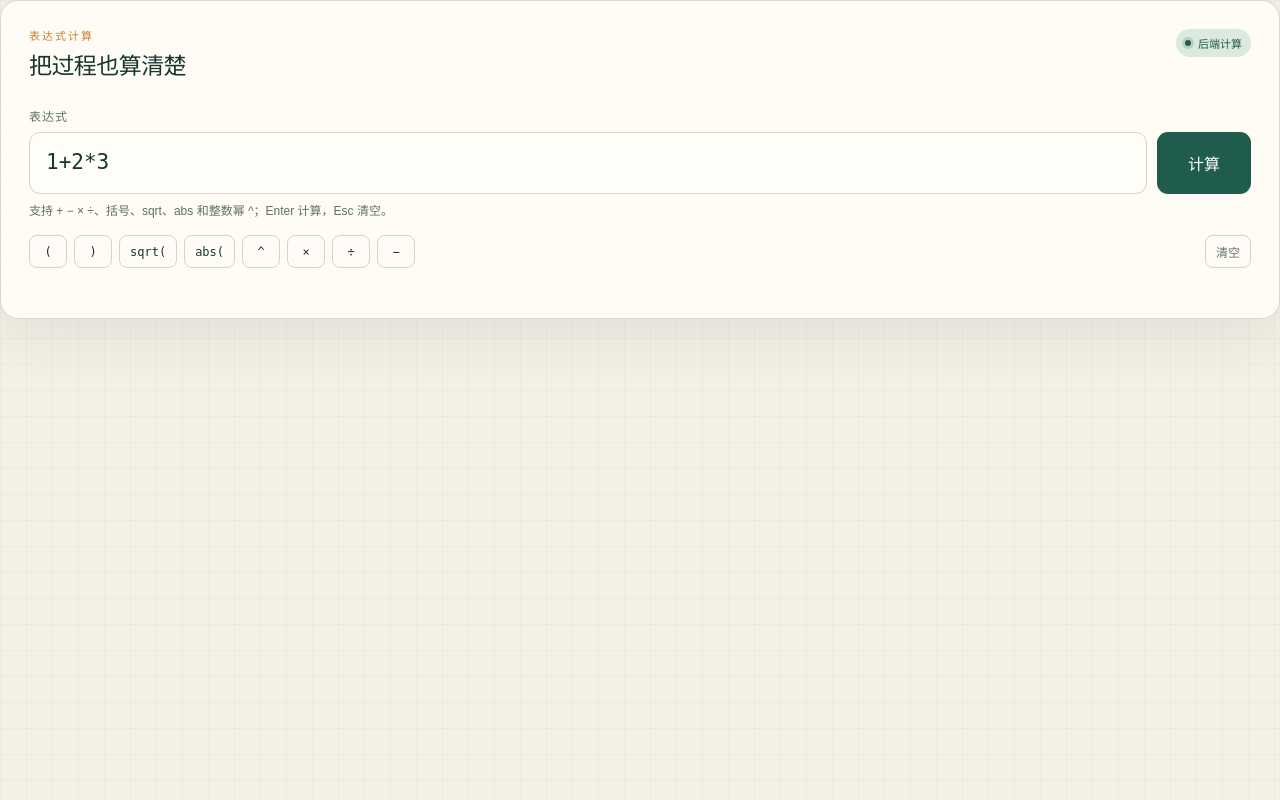
Scenario: CalculatorPanel › uses the API response as the displayed result
The width and height of the screenshot is (1280, 800).
Click the button "计算".
click(1204, 163)  # box [1157,132,1251,194]
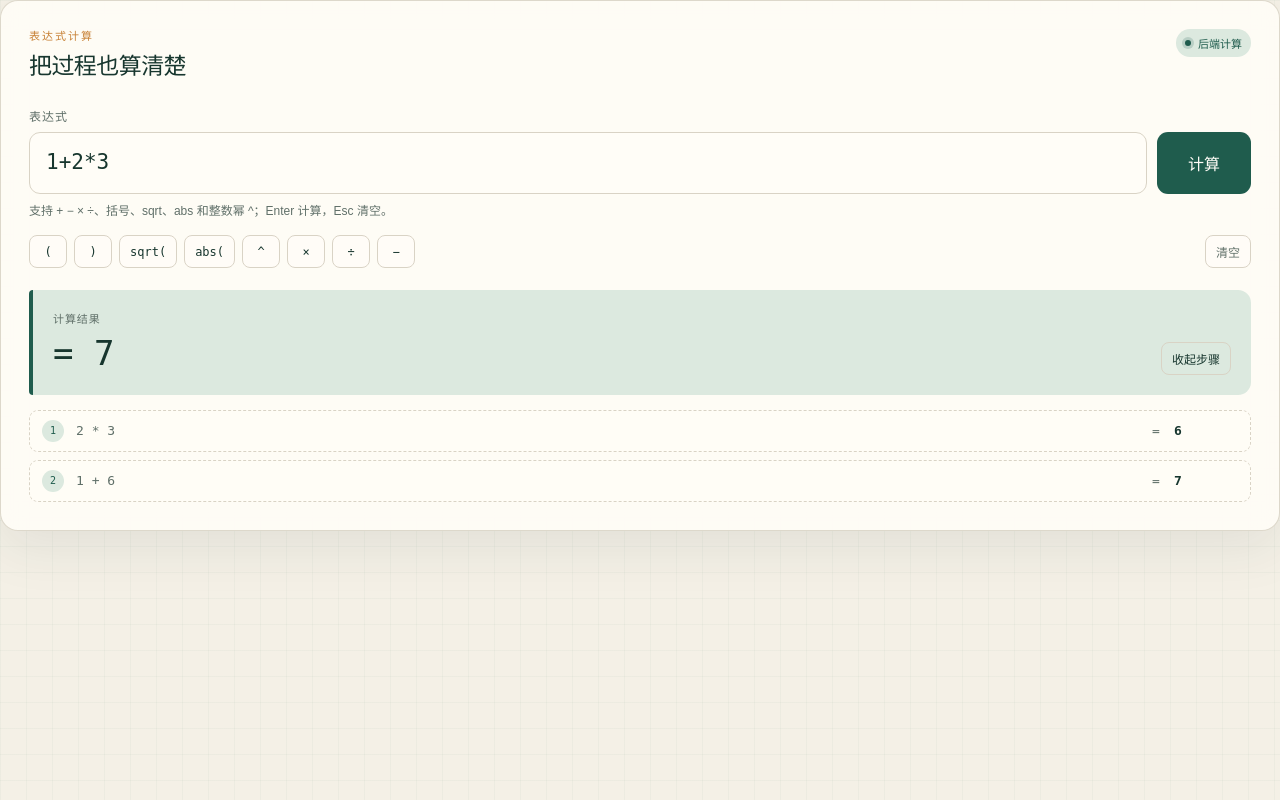
Check: the text "= 7" is shown, box [53,332,114,375]
